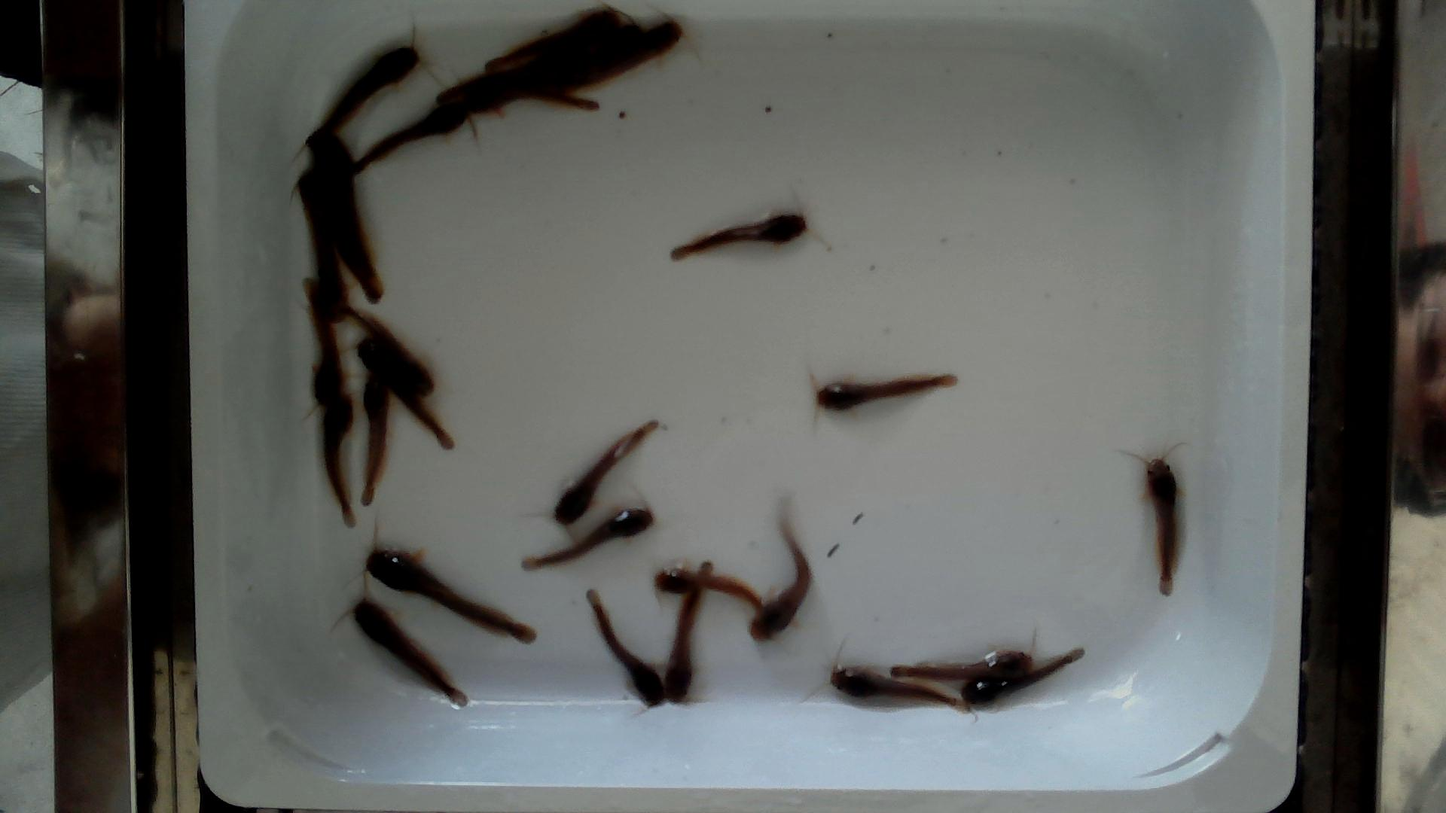lele: (368, 549, 535, 643), (355, 597, 467, 705), (554, 420, 659, 524), (301, 172, 381, 305), (358, 340, 454, 449), (306, 131, 373, 273), (439, 43, 587, 105), (316, 46, 419, 132), (486, 9, 620, 73), (590, 591, 664, 705), (522, 507, 653, 569), (343, 307, 434, 395), (752, 512, 812, 640), (961, 647, 1085, 706), (577, 20, 683, 88), (665, 562, 713, 701), (362, 104, 470, 164), (300, 192, 348, 323), (672, 213, 807, 259), (831, 668, 963, 709), (551, 24, 643, 81), (654, 568, 762, 615), (1143, 456, 1179, 595), (817, 375, 956, 409), (305, 279, 340, 409), (324, 393, 357, 528), (462, 81, 598, 113), (891, 652, 1033, 680), (362, 373, 389, 505)
